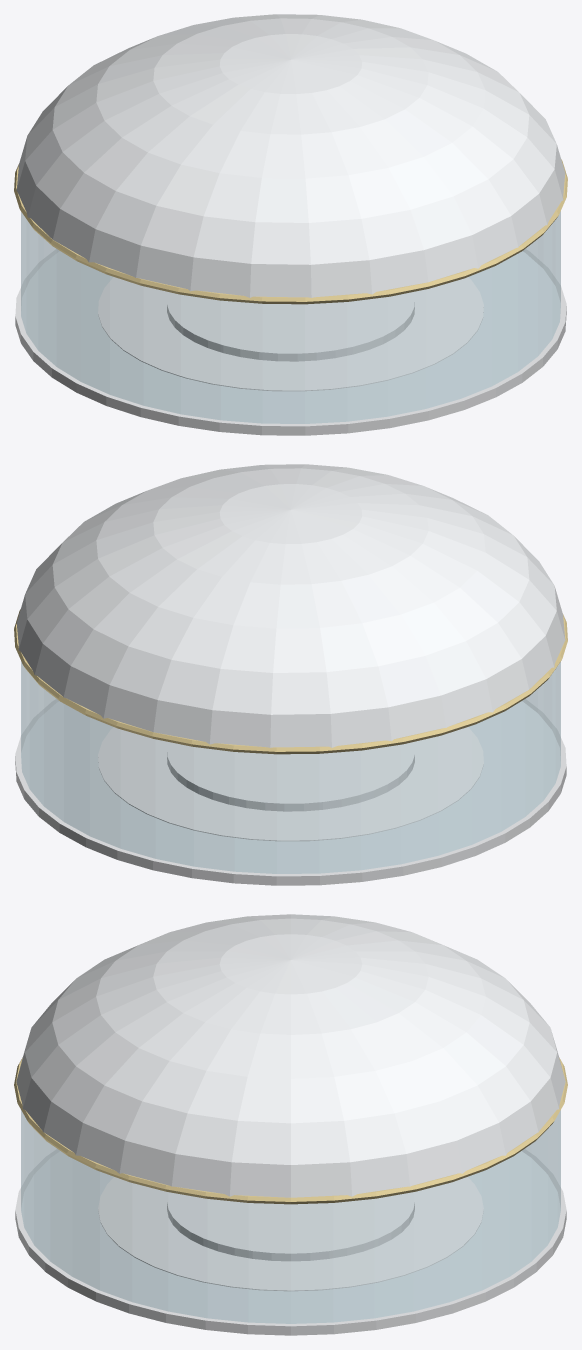
Rendered from reef-int-lounge.glb.
The picture shows the model from 3 angles, top to bottom: view 1: azimuth 30°, elevation 25°; view 2: azimuth 150°, elevation 25°; view 3: azimuth 270°, elevation 25°; orthographic projection.
Visible parts, largest first — view 1: Sphere.064, Cylinder.117, Cylinder.116, Torus.274; view 2: Sphere.064, Cylinder.117, Cylinder.116, Torus.274; view 3: Sphere.064, Cylinder.117, Cylinder.116, Torus.274.
Part boxes in pixels (x1,y1,x2,y2): Sphere.064: [16, 14, 565, 391]; Cylinder.117: [21, 211, 560, 423]; Cylinder.116: [15, 249, 566, 435]; Torus.274: [14, 159, 567, 304]; Sphere.064: [16, 464, 565, 841]; Cylinder.117: [21, 661, 560, 873]; Cylinder.116: [15, 699, 566, 885]; Torus.274: [14, 609, 567, 754]; Sphere.064: [16, 914, 565, 1291]; Cylinder.117: [21, 1110, 560, 1323]; Cylinder.116: [15, 1149, 566, 1335]; Torus.274: [14, 1058, 567, 1204].
Size of the model in its own units: 16.08 by 8.3 by 16.08.
